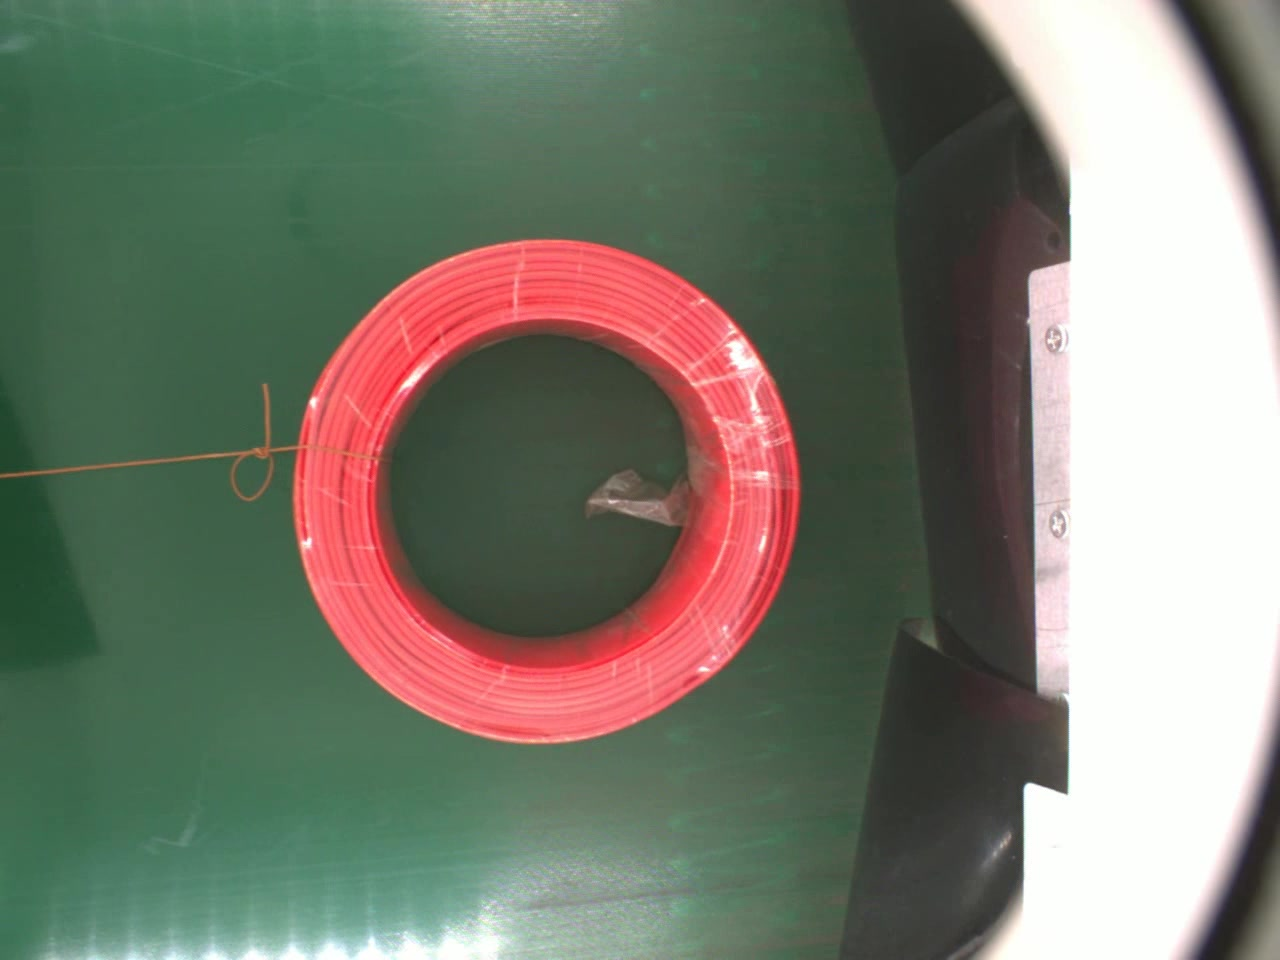red: (291, 238, 805, 750)
